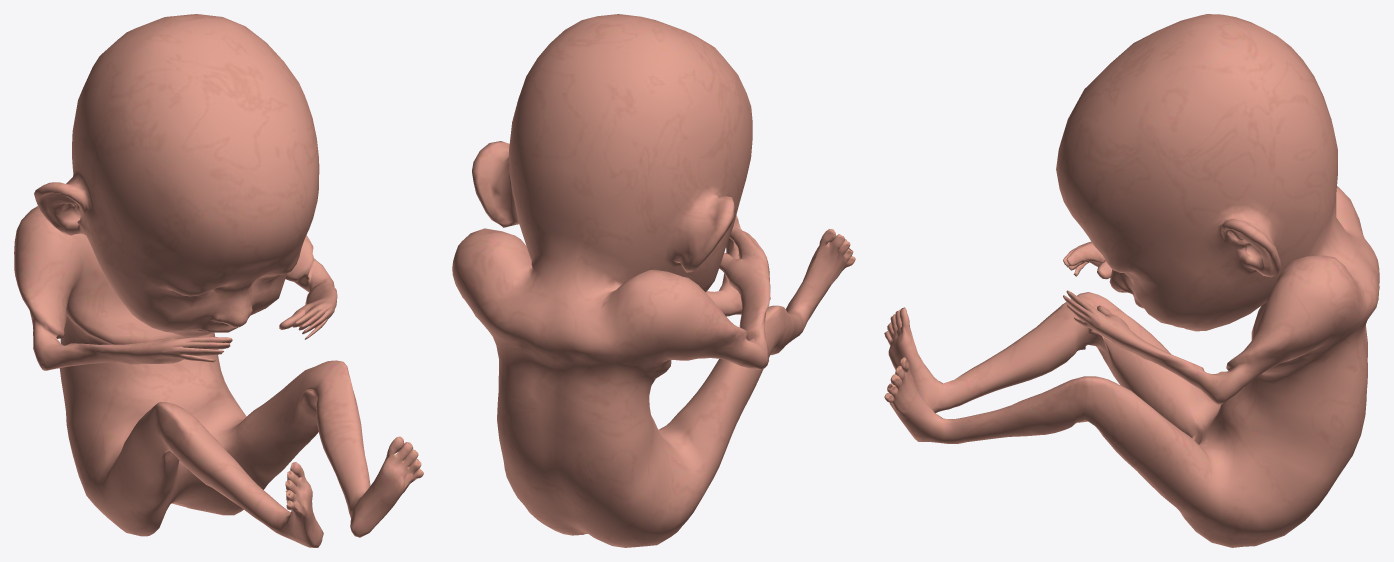
The picture shows the model from 3 angles, left to right: view 1: azimuth 30°, elevation 25°; view 2: azimuth 150°, elevation 25°; view 3: azimuth 270°, elevation 25°; orthographic projection.
Visible parts, largest first — view 1: Baby; view 2: Baby; view 3: Baby.
Boxes of the visible parts, x1=… form: Baby: x1=14, y1=14, x2=423, y2=547; Baby: x1=452, y1=14, x2=855, y2=547; Baby: x1=884, y1=14, x2=1379, y2=547.
Bounding box in the file's own units: 0.0865 × 0.1413 × 0.1267.
1 material, 1 textured.
